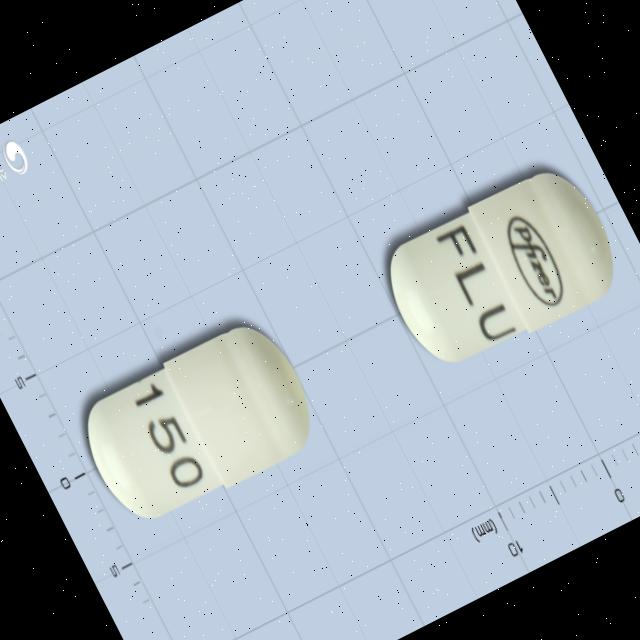Diflucan Cap: (369, 156, 632, 384), (68, 311, 330, 538)
